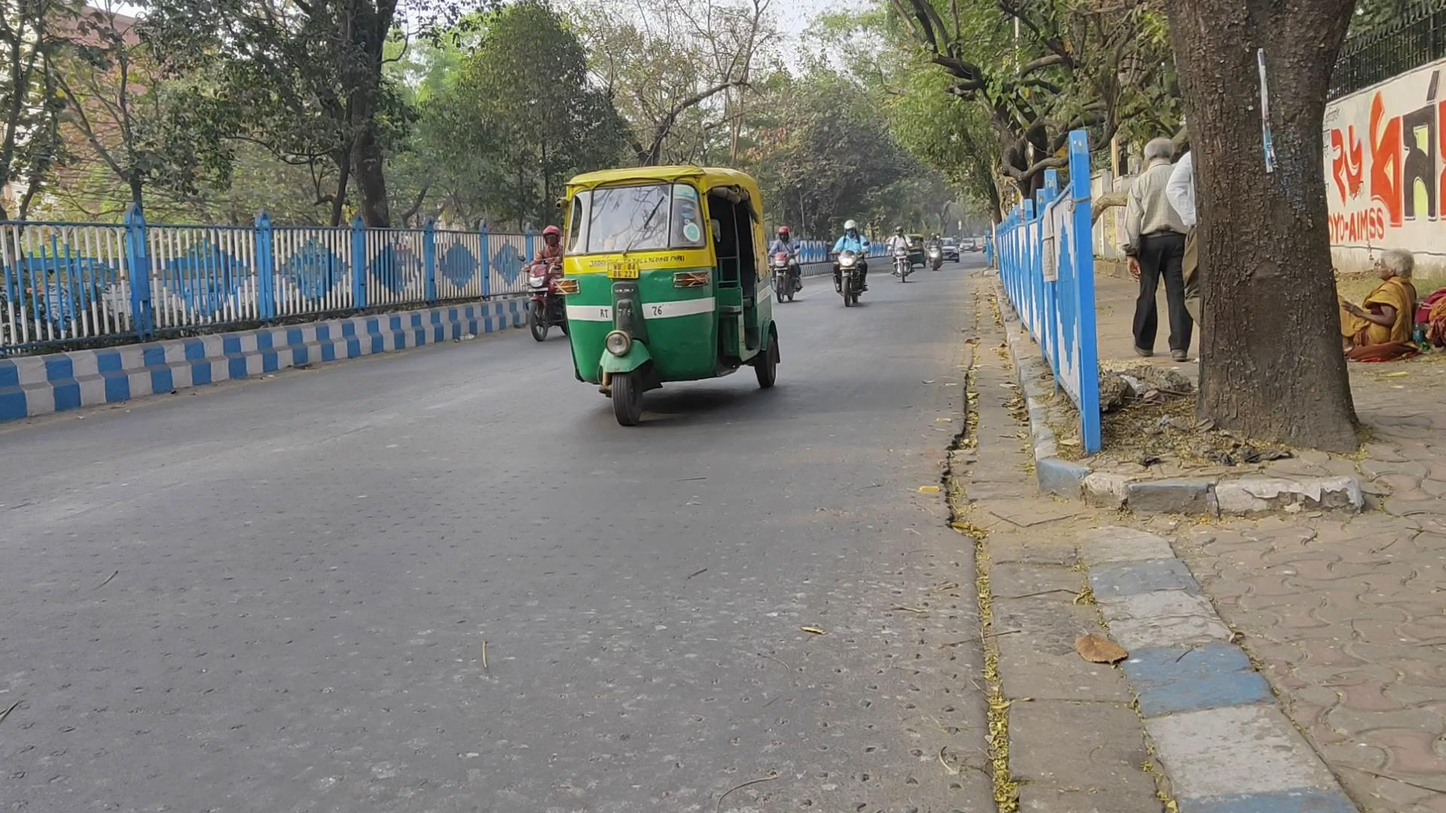Auto: (558, 162, 780, 426), (903, 233, 925, 269)
bike: (523, 226, 571, 345), (832, 218, 870, 308), (770, 224, 803, 305), (886, 225, 912, 283), (924, 232, 944, 273)
car: (930, 238, 960, 263), (959, 237, 978, 254)
